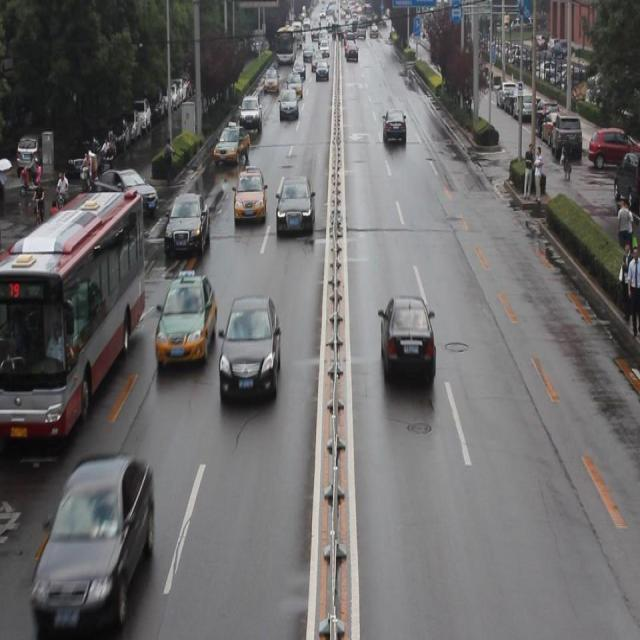car: (29, 453, 154, 628), (218, 296, 281, 397), (154, 268, 217, 366), (378, 291, 434, 383), (87, 167, 158, 215), (165, 191, 209, 258), (275, 174, 314, 236), (232, 166, 266, 224), (214, 119, 250, 167), (382, 106, 406, 146), (239, 96, 262, 134), (279, 88, 298, 118)
van: (1, 187, 144, 438)
